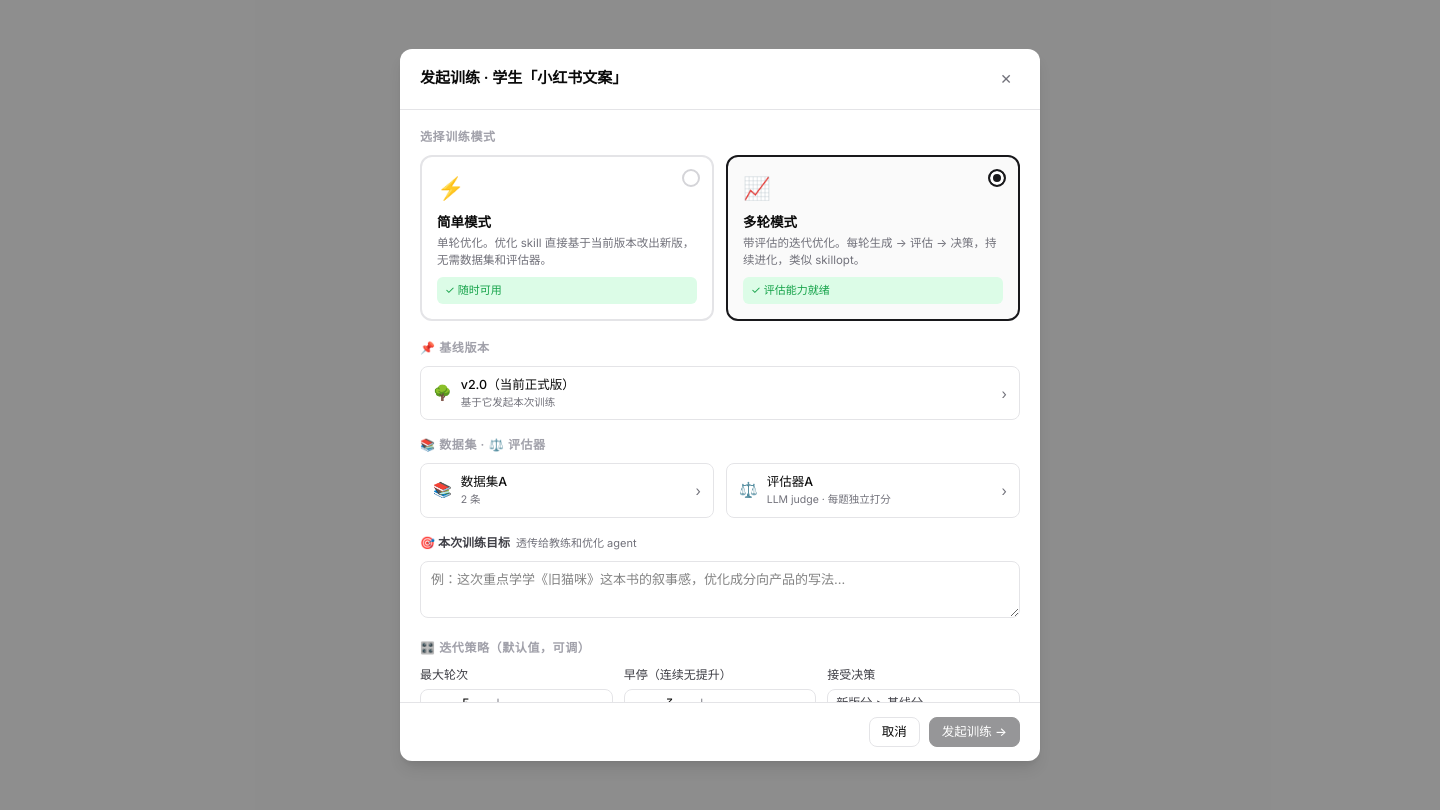
Test case: ComponentTrainingCreateModal — 模式与交互 › 点「简单模式」卡 → 切换选中，数据集 picker 收起
The image size is (1440, 810).
Click the button "⚡ 简单模式 单轮优化。优化 skill 直接基于当前版本改出新版，无需数据集和评估器。 ✓ 随时可用" at (567, 238), box [420, 155, 714, 321]
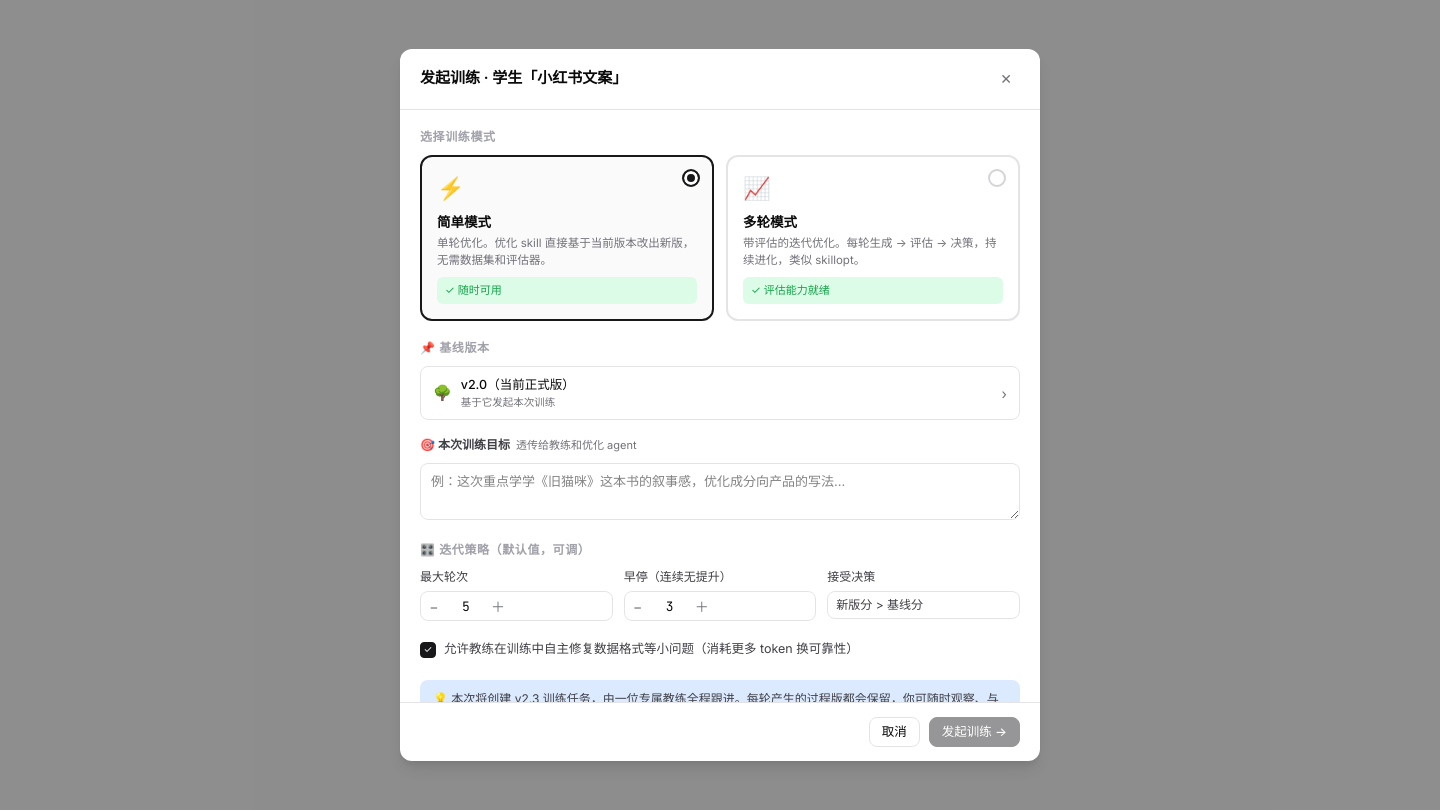
Now the button "数据集A" is gone
